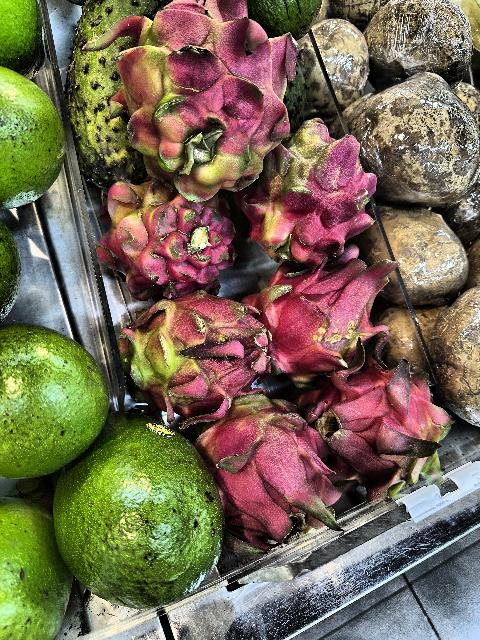buah-naga-belum-matang: (81, 8, 305, 194), (176, 406, 344, 544), (110, 306, 280, 412), (100, 183, 243, 294), (266, 131, 377, 257)
buah-naga-matang: (298, 377, 464, 495), (250, 260, 396, 374)
